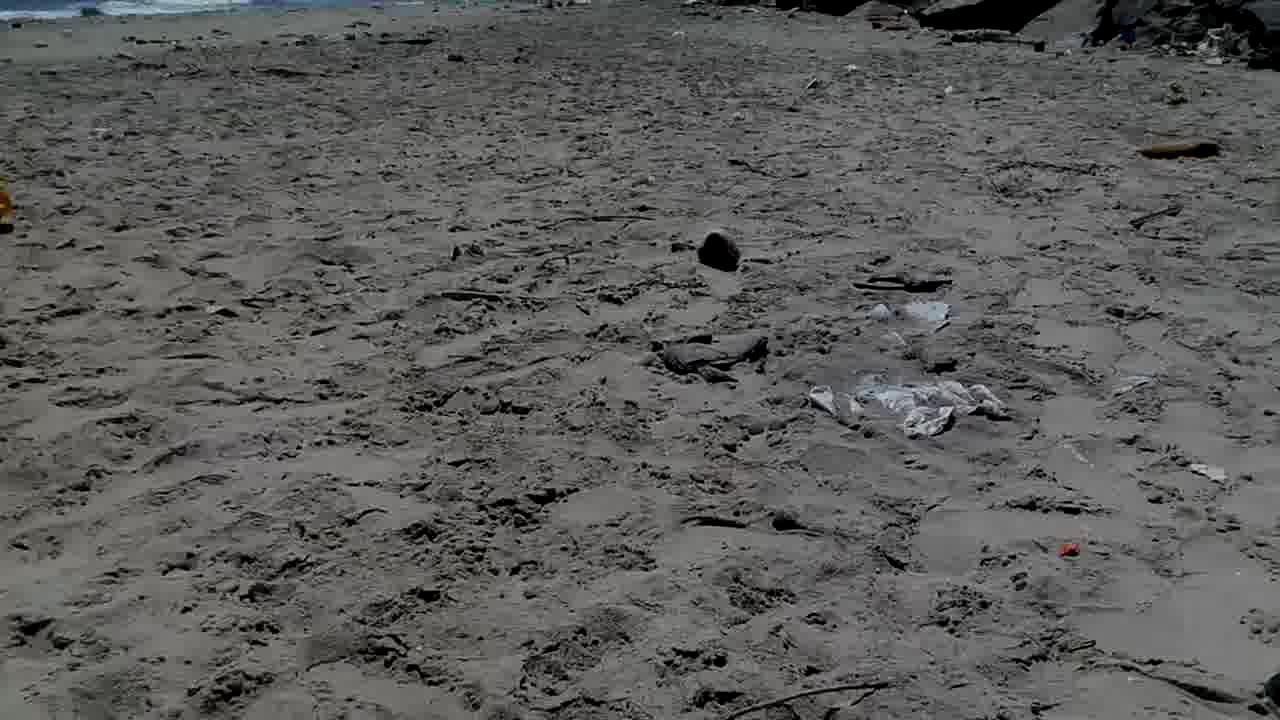obj: (806, 368, 1009, 443), (661, 334, 780, 390), (859, 302, 955, 354), (844, 270, 952, 294), (1130, 137, 1223, 162), (696, 231, 744, 273)
sand/background: (0, 0, 1279, 74)
